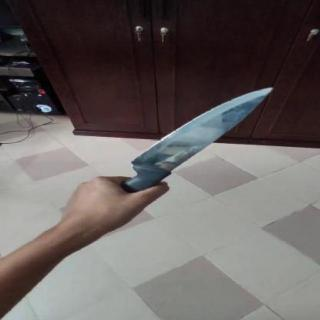knife: (114, 88, 278, 202)
